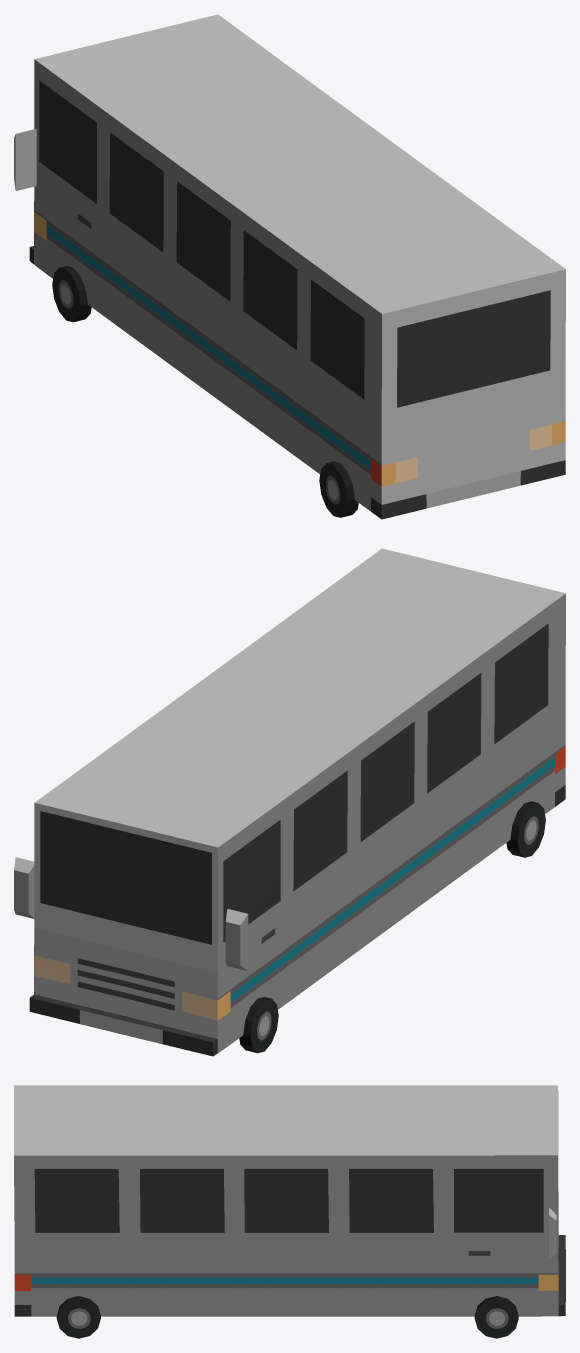
File: bus_mesh.fbx
The picture shows the model from 3 angles, top to bottom: view 1: azimuth 30°, elevation 25°; view 2: azimuth 150°, elevation 25°; view 3: azimuth 270°, elevation 25°; orthographic projection. The views are drawn at different scales.
Parts seen in each view (by area): view 1: bus_mesh; view 2: bus_mesh; view 3: bus_mesh.
Part boxes in pixels (box(x1,y1,x2,y2)): bus_mesh: box(14, 14, 565, 519); bus_mesh: box(14, 548, 565, 1056); bus_mesh: box(14, 1085, 565, 1338).
Size of the model in its own units: 3.44 by 3.27 by 9.04.
